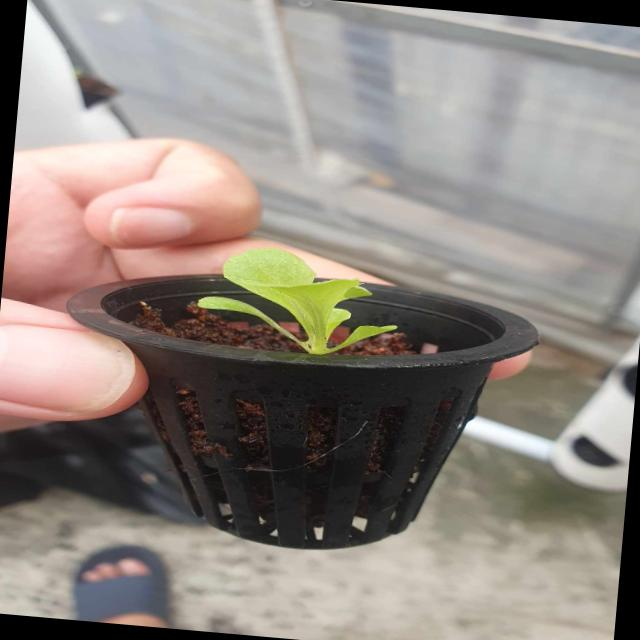Lettuce-Not-Ready-to-Harvest: (200, 225, 426, 374)
